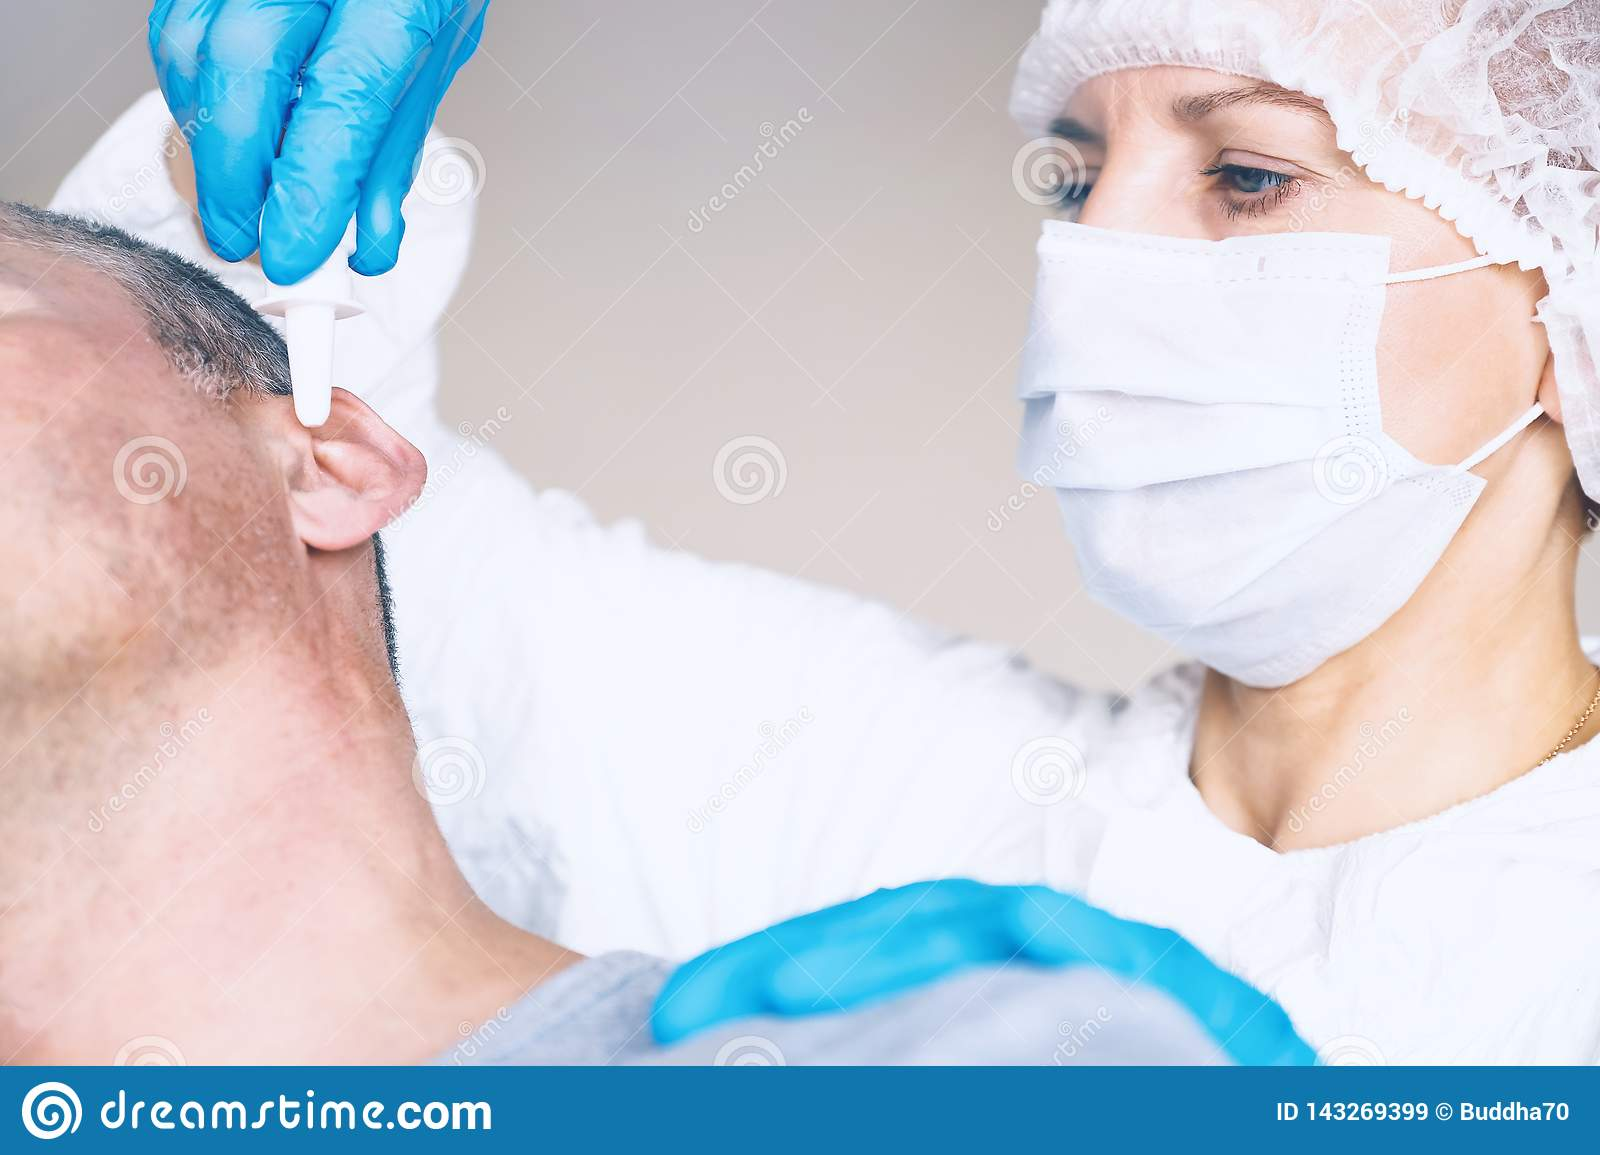mask: (1012, 219, 1498, 699)
